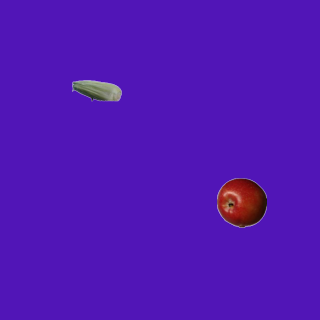Apple Braeburn: (216, 177, 266, 227)
Corn Husk: (71, 65, 121, 115)
